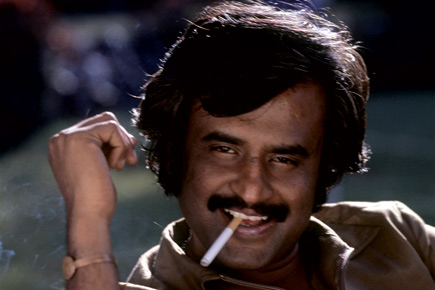cigarette: (198, 211, 247, 268)
